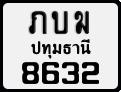letters: (28, 11, 48, 35), (81, 61, 100, 85), (51, 10, 69, 35), (42, 61, 60, 85), (62, 61, 80, 85), (74, 10, 90, 35), (22, 61, 39, 84)
province: (30, 38, 91, 59)
